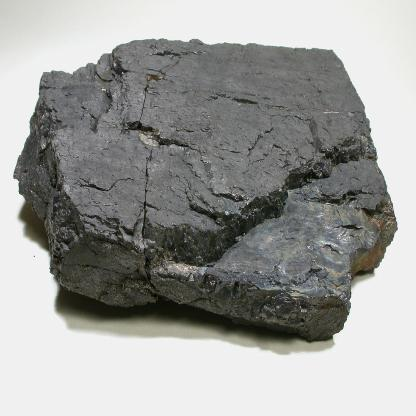Sedimentary_coal: (10, 27, 398, 356)
